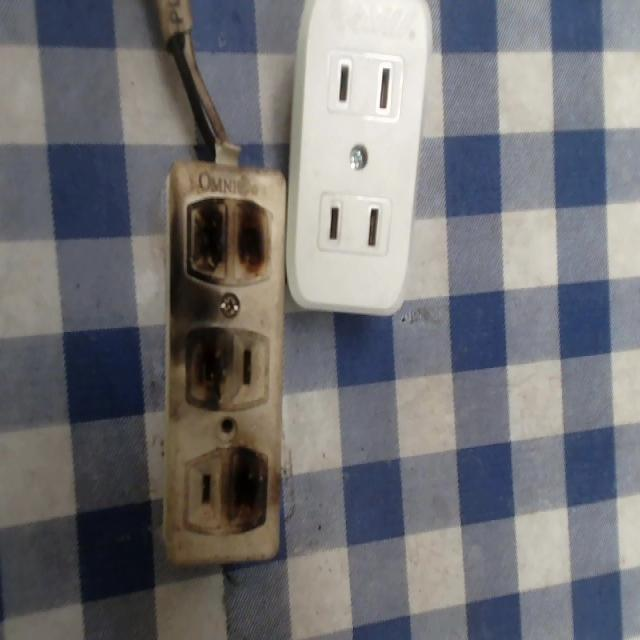-: (177, 188, 276, 296), (219, 442, 273, 550), (172, 327, 233, 413)
